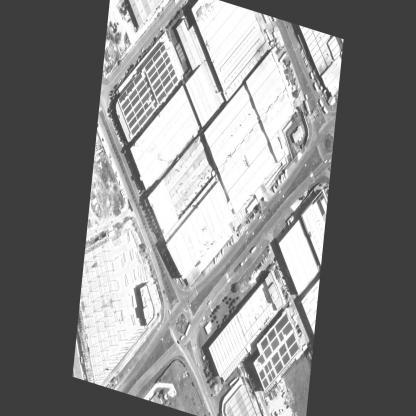solar-pv-panel: (275, 313, 289, 333), (136, 76, 148, 92), (141, 89, 152, 104), (139, 82, 150, 97), (289, 342, 299, 357), (286, 333, 295, 348), (282, 322, 292, 335), (271, 352, 280, 365), (126, 81, 135, 94), (131, 94, 140, 107), (157, 90, 166, 103), (150, 71, 159, 84), (160, 68, 169, 81), (162, 74, 171, 87), (165, 81, 174, 94), (275, 360, 283, 374), (268, 328, 276, 342), (131, 123, 140, 135), (138, 114, 147, 126), (136, 107, 145, 119), (155, 56, 164, 68), (264, 346, 272, 359), (271, 337, 279, 350), (282, 352, 290, 365), (279, 343, 287, 356), (129, 88, 137, 101), (129, 116, 137, 128), (119, 91, 127, 103), (153, 50, 161, 62), (145, 59, 153, 71), (148, 65, 156, 77), (134, 101, 142, 113), (155, 84, 163, 96), (153, 78, 161, 90), (158, 62, 166, 74), (261, 337, 268, 350), (126, 111, 134, 122), (124, 104, 132, 115), (122, 98, 130, 109), (134, 73, 142, 84), (146, 106, 154, 117), (262, 377, 269, 388), (144, 101, 152, 110), (258, 354, 265, 364), (259, 369, 265, 380), (278, 331, 284, 341), (268, 373, 273, 382), (264, 364, 269, 373), (271, 369, 276, 378), (160, 44, 165, 53), (173, 76, 178, 84), (170, 69, 175, 77), (165, 57, 170, 65), (163, 51, 168, 59), (268, 361, 272, 370), (168, 64, 173, 71), (153, 101, 157, 108), (151, 95, 154, 101)
